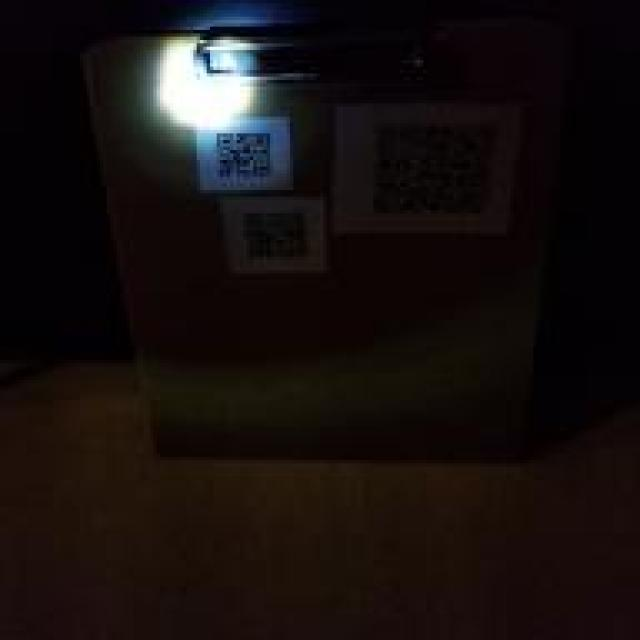QR_CODE: (363, 110, 507, 223), (230, 200, 320, 270), (205, 120, 283, 183)
